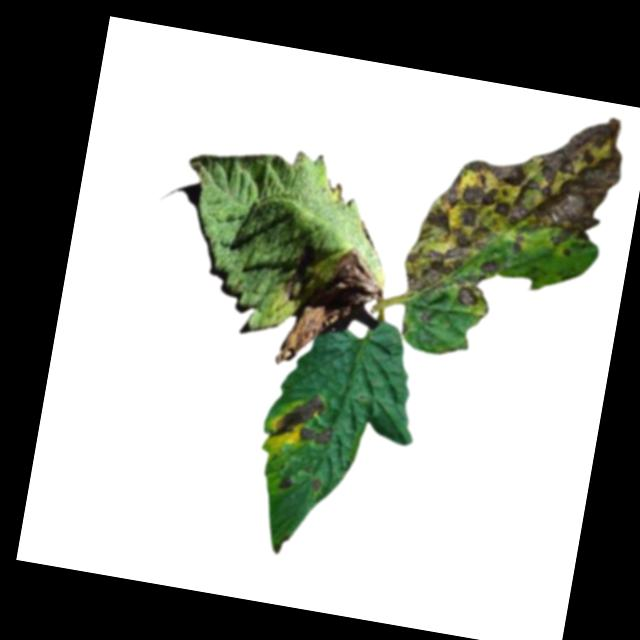Early_blight: (398, 85, 631, 331), (275, 237, 389, 381), (269, 388, 331, 446), (298, 422, 336, 449), (312, 478, 323, 493)
